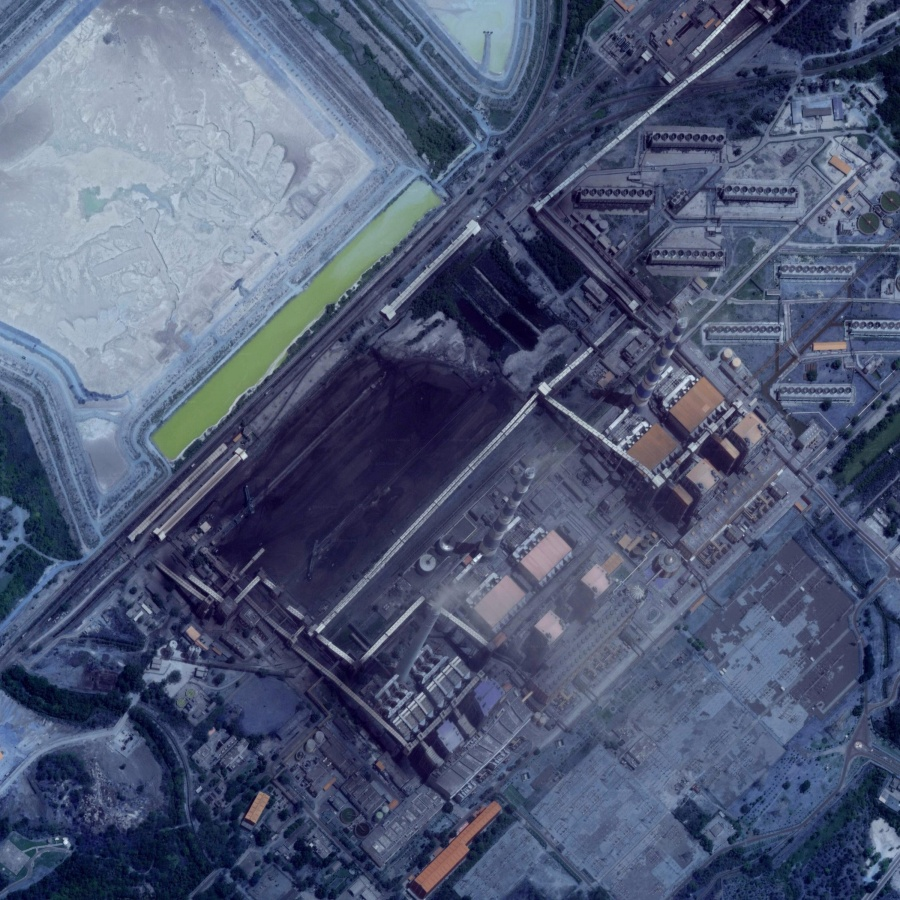PowerPlant: (140, 183, 665, 690)
